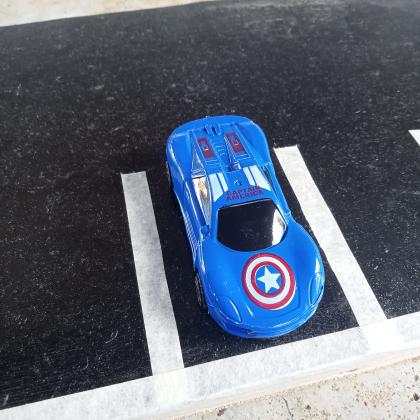Car: (165, 114, 326, 338)
